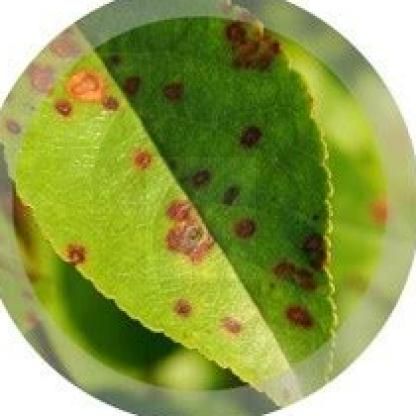black-spot: (146, 157, 256, 279), (34, 53, 151, 157)
